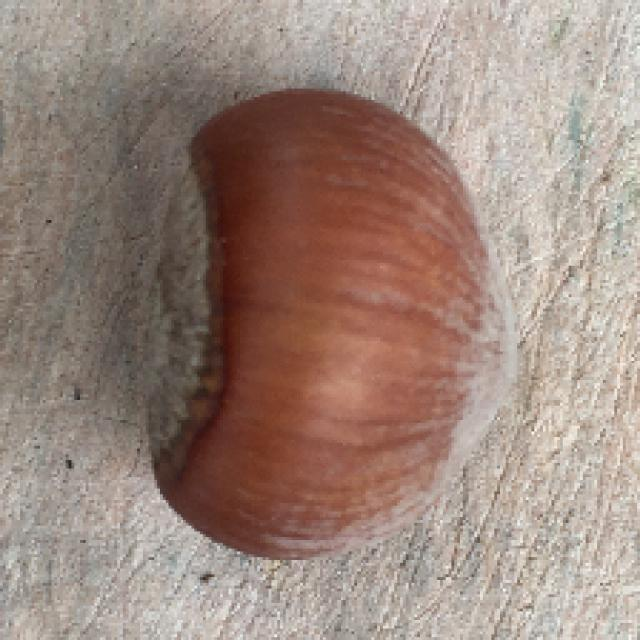qualityHazelnut: (127, 80, 521, 568)
